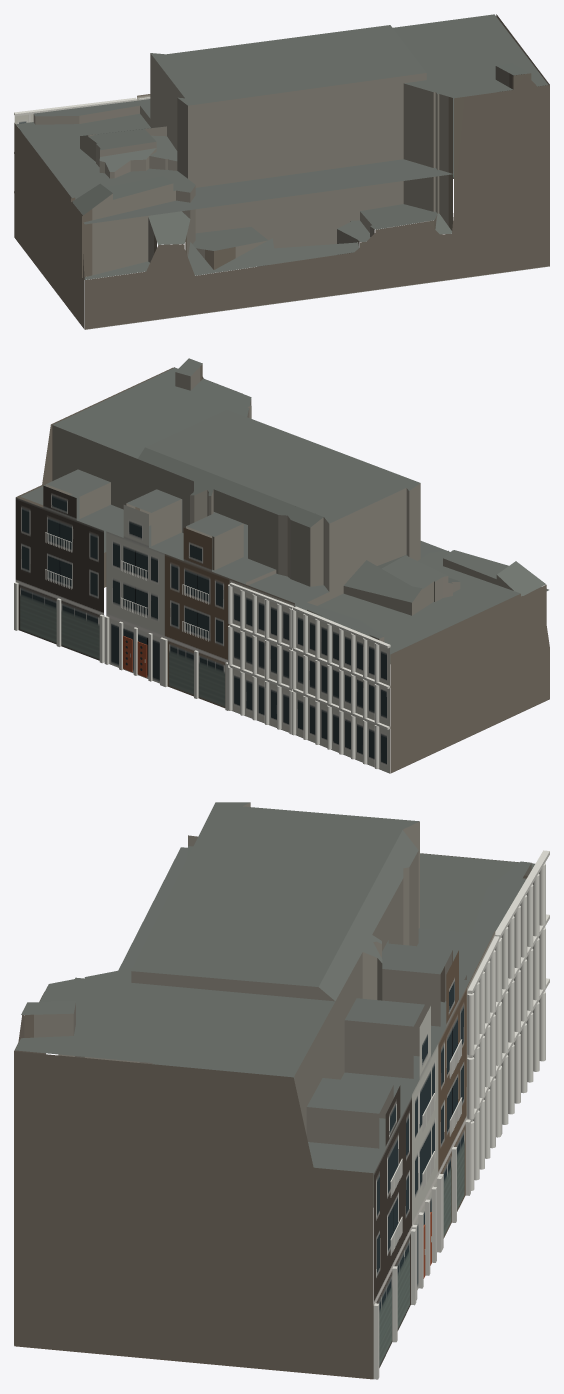
The picture shows the model from 3 angles, top to bottom: view 1: azimuth 30°, elevation 25°; view 2: azimuth 150°, elevation 25°; view 3: azimuth 270°, elevation 25°; orthographic projection. The views are drawn at different scales.
Visible parts, largest first — view 1: 0363100012175018; view 2: 0363100012175018; view 3: 0363100012175018.
Part boxes in pixels (x1,y1,x2,y2): 0363100012175018: (14,14,549,329); 0363100012175018: (14,358,549,773); 0363100012175018: (14,802,549,1379).
Size of the model in its own units: 40.04 by 16.43 by 25.08.
Materials: 3 (1 with a texture image).
